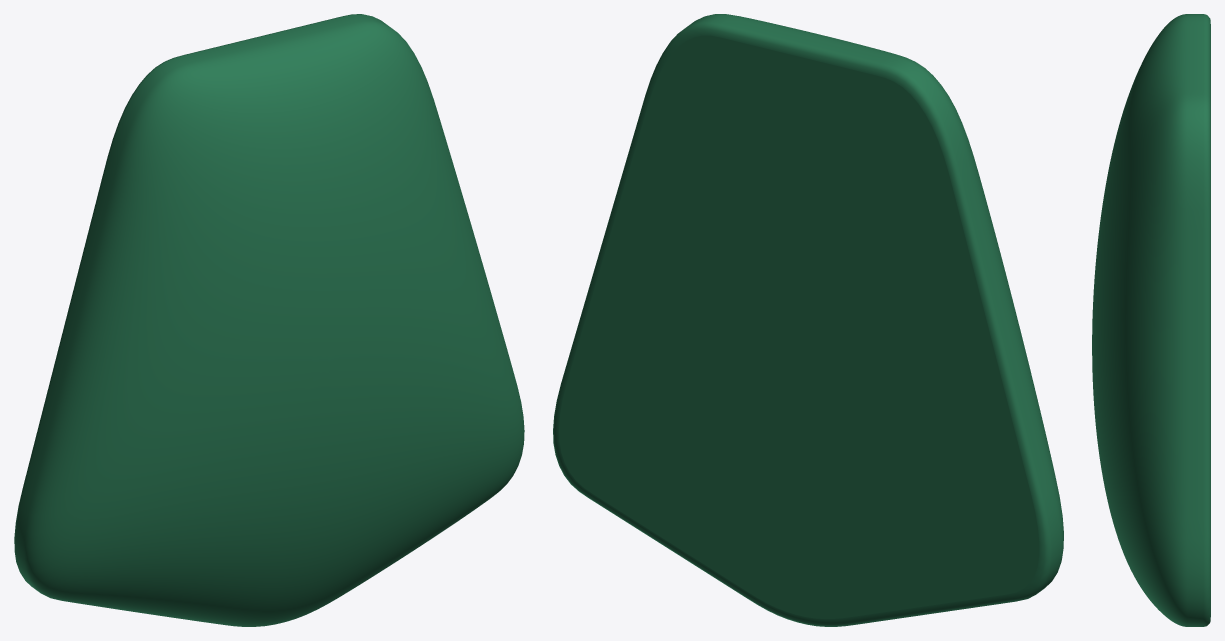
Rendered from fan.glb.
3 views of the same model, side by side, from view 1: azimuth 30°, elevation 25°; view 2: azimuth 150°, elevation 25°; view 3: azimuth 270°, elevation 25° (orthographic). The views are drawn at different scales.
Parts seen in each view (by area): view 1: Fan Cabochon 20x18x4mm; view 2: Fan Cabochon 20x18x4mm; view 3: Fan Cabochon 20x18x4mm.
Part boxes in pixels (x1=…): Fan Cabochon 20x18x4mm: x1=14, y1=14, x2=524, y2=626; Fan Cabochon 20x18x4mm: x1=553, y1=14, x2=1063, y2=626; Fan Cabochon 20x18x4mm: x1=1092, y1=14, x2=1210, y2=626.
Bounding box in the file's own units: 0.018 × 0.02 × 0.00398.
